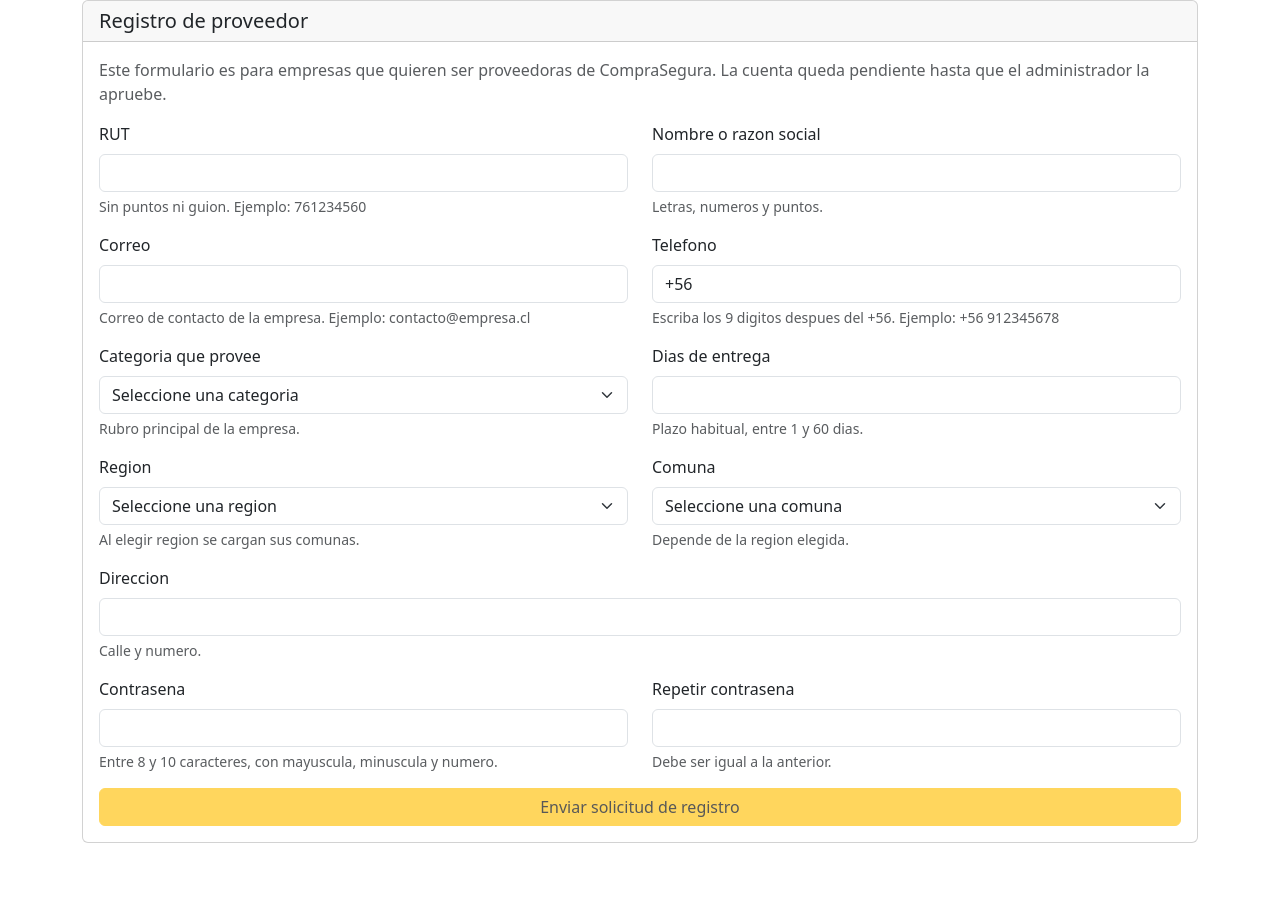
Scenario: Registro › muestra el error de un campo despues de escribir un valor invalido
Type "123" into the field labelled "RUT" at [364, 173], box [99, 154, 628, 192]
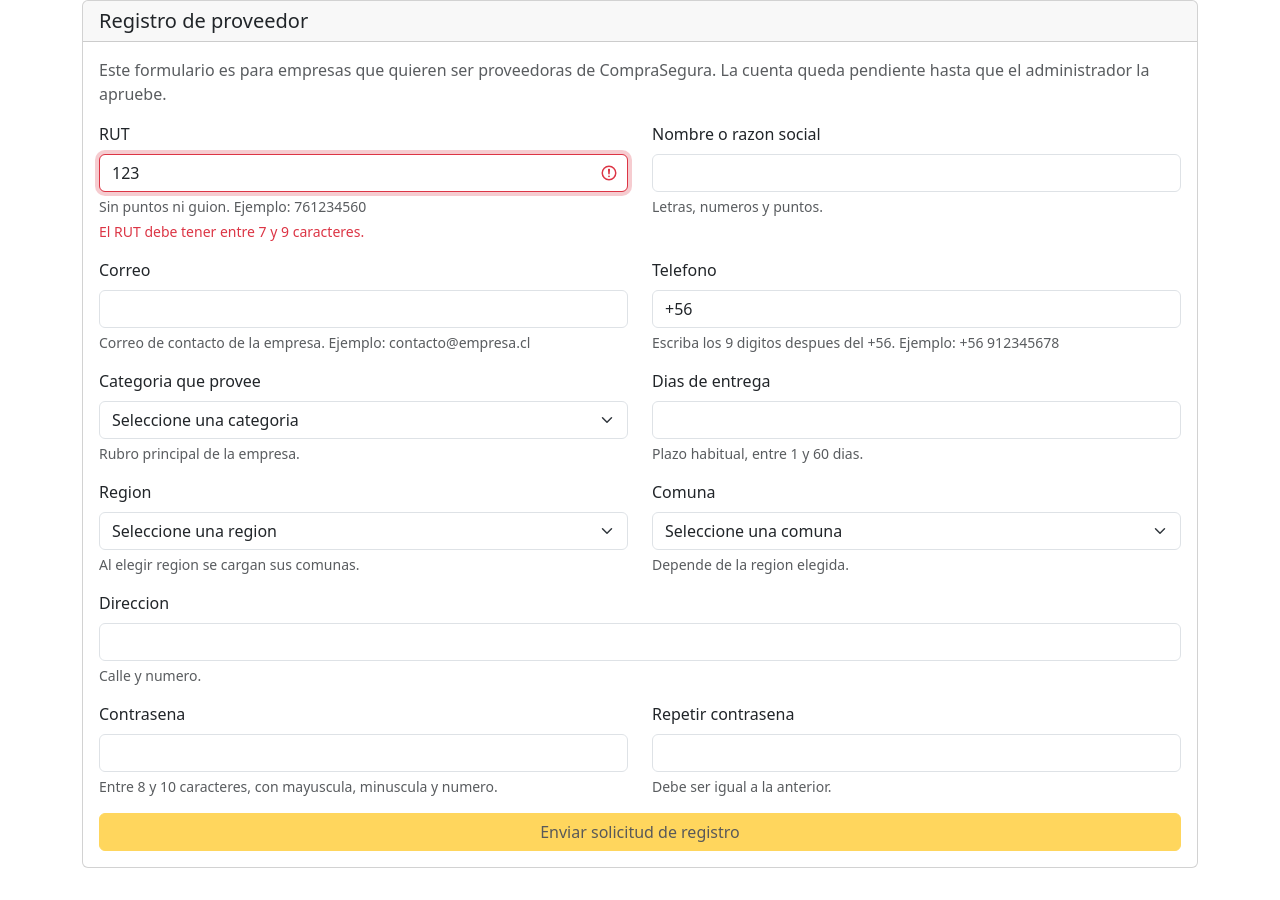
Expected: the text "El RUT debe tener entre 7 y 9 caracteres." is shown, [99, 222, 364, 241]
